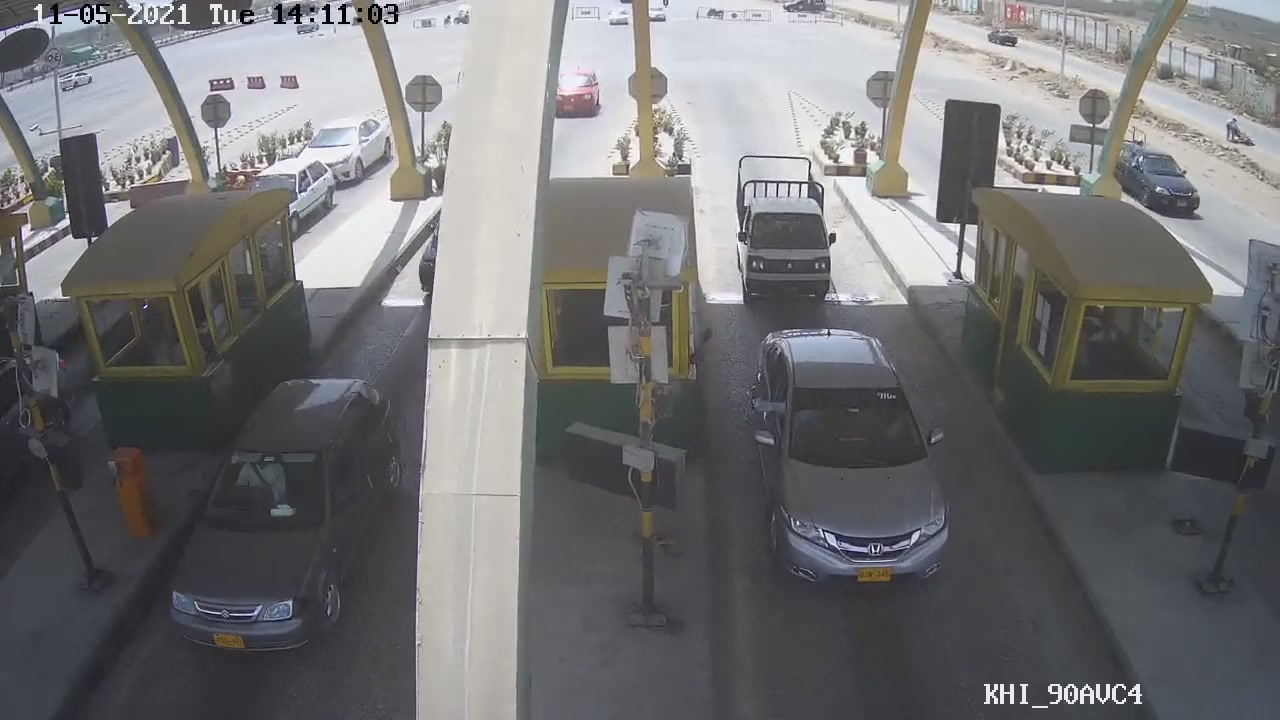F1: (745, 326, 953, 592), (724, 144, 846, 319)
